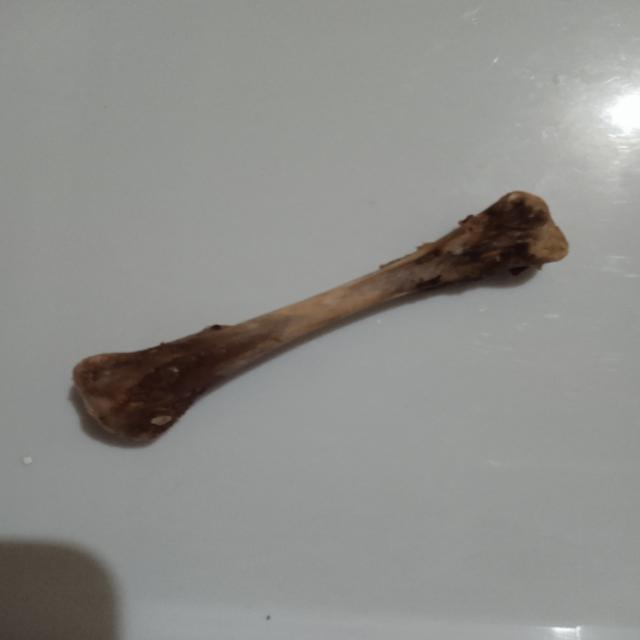bone: (67, 184, 586, 450)
